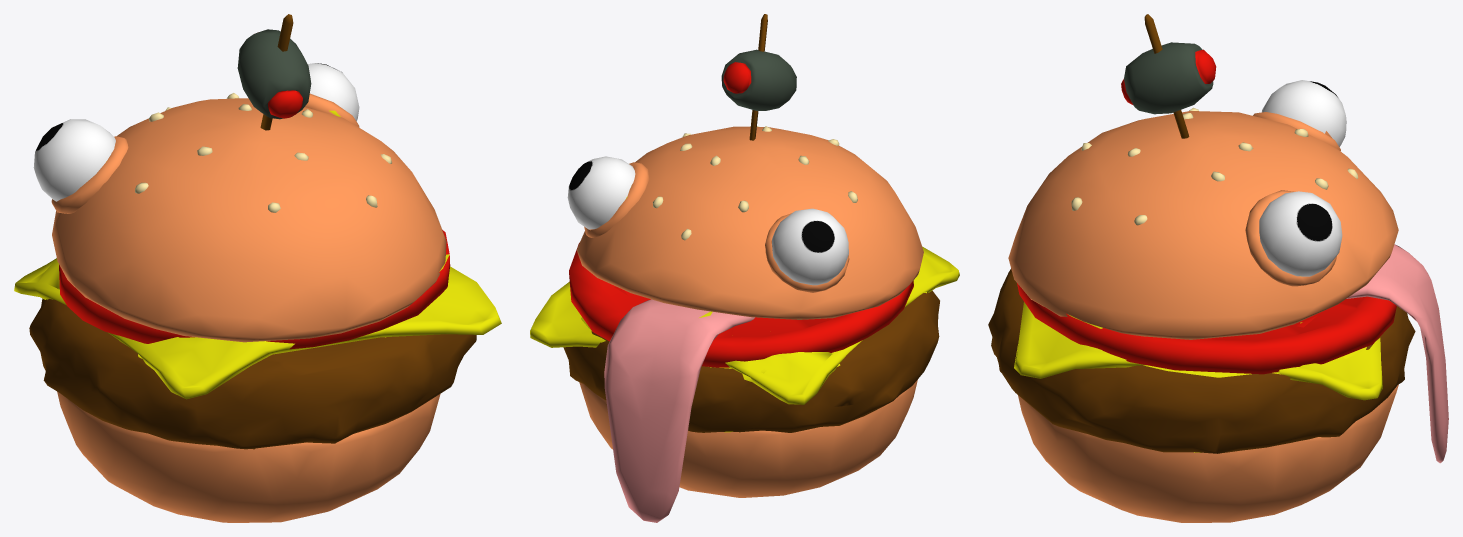
Rendered from durrburger.glb.
3 renders of one model, left to right at view 1: azimuth 30°, elevation 25°; view 2: azimuth 150°, elevation 25°; view 3: azimuth 270°, elevation 25°, orthographic. The views are drawn at different scales.
Parts seen in each view (by area): view 1: durrburger; view 2: durrburger; view 3: durrburger.
Boxes of the visible parts, x1,y1,x2,y2 form: durrburger: (14, 14, 501, 522); durrburger: (530, 14, 959, 522); durrburger: (988, 14, 1448, 522).
Bounding box in the file's own units: 1 × 1.27 × 1.09.
Materials: 9 (1 with a texture image).
